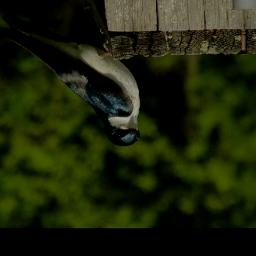Swallow: (0, 14, 143, 148)
